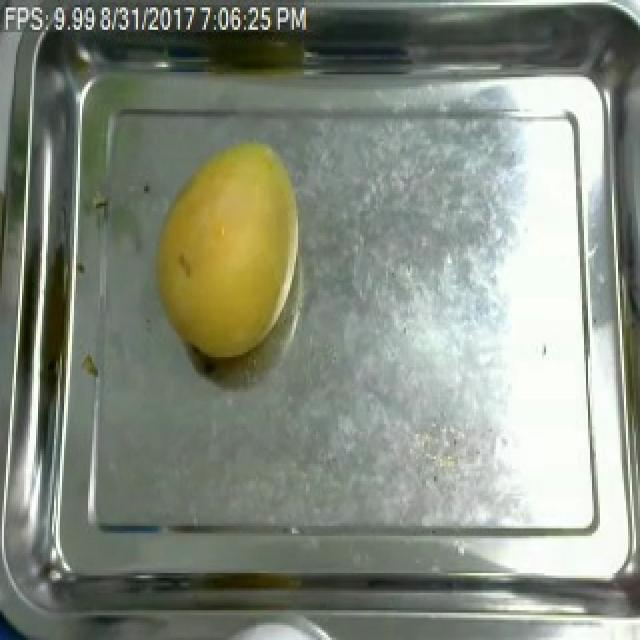fruit: (142, 132, 312, 372)
